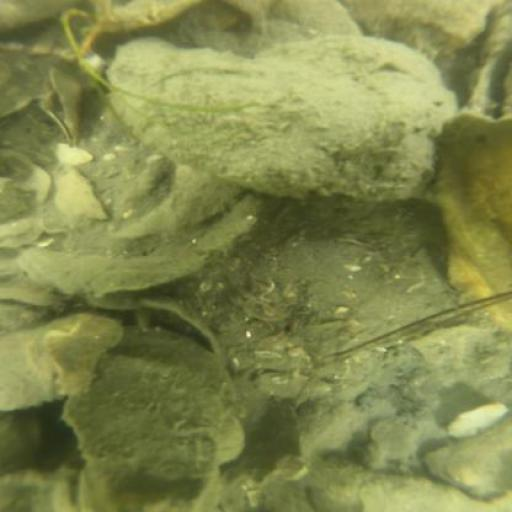Oyster-Closed: (108, 30, 468, 205)
